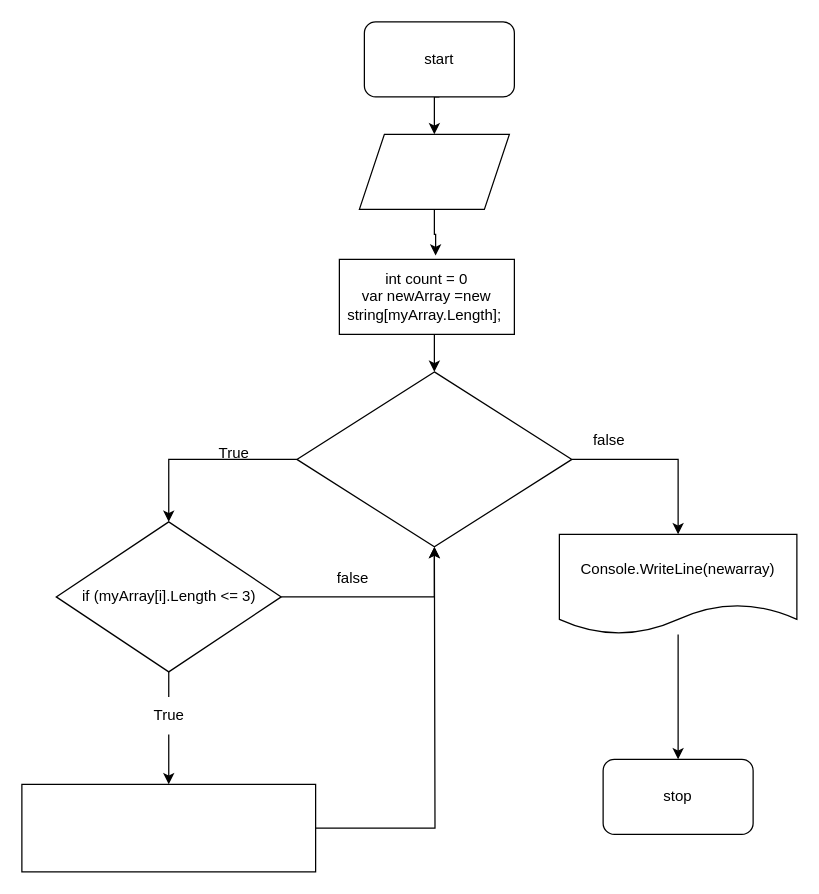
Image size: 819x894. Some labels were removed from this diagram. Here are the shapes that lost their labels. From the top down, the centre of each, then its label:
[433,171]: string[] myArray
[434,459]: for (int i = 0; i < myArray.Length; i++)
[168,827]: newArray[count] = myArray[i]; count++;
